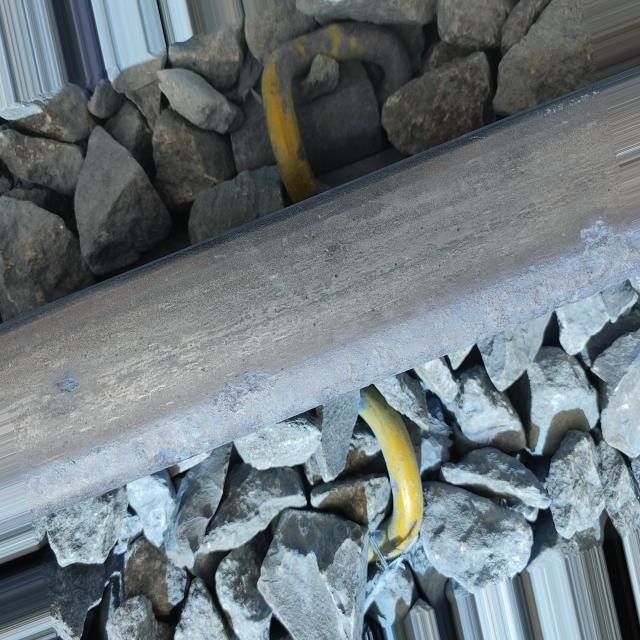Good Fasteners: (231, 21, 410, 202), (359, 385, 423, 561)
